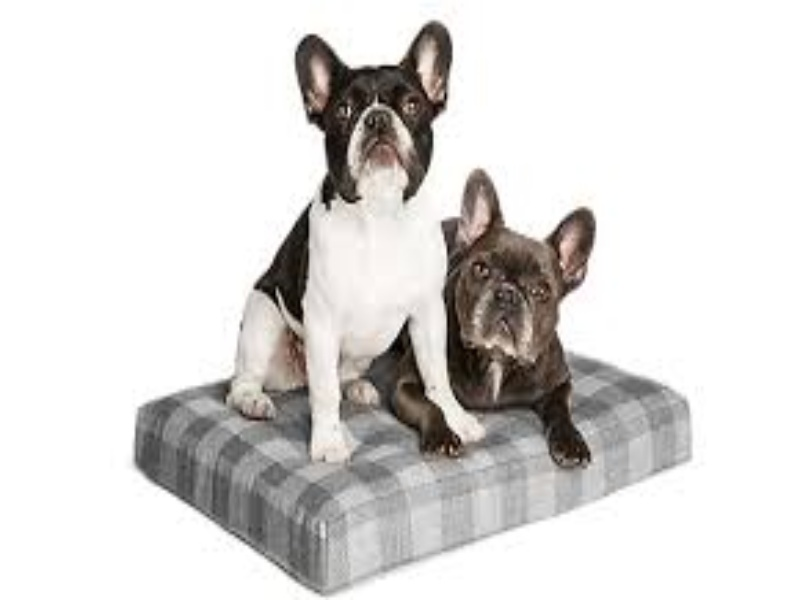dog: (226, 20, 467, 464), (450, 176, 582, 416)
